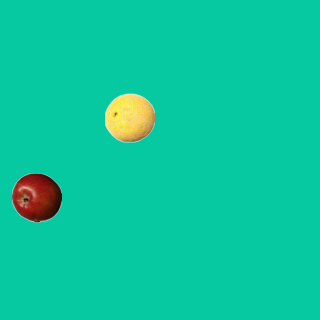Apple Braeburn: (11, 172, 61, 222)
Cantaloupe 1: (104, 92, 154, 142)
